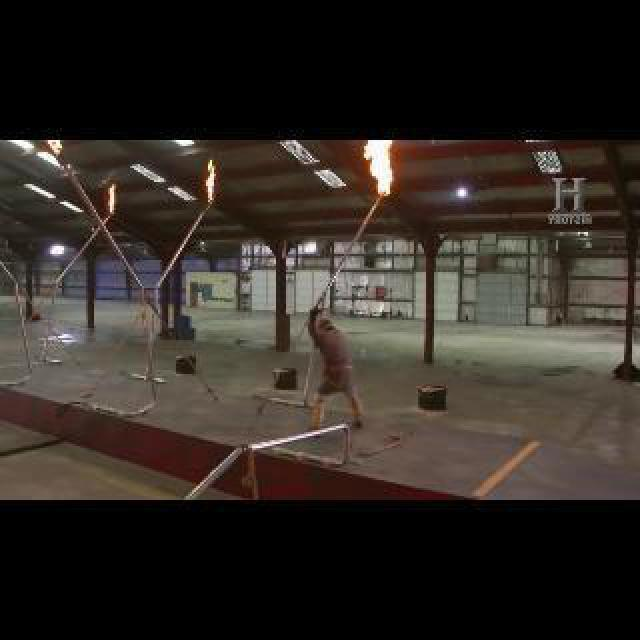Fire: (360, 142, 404, 194), (196, 160, 228, 202), (100, 186, 130, 216)
